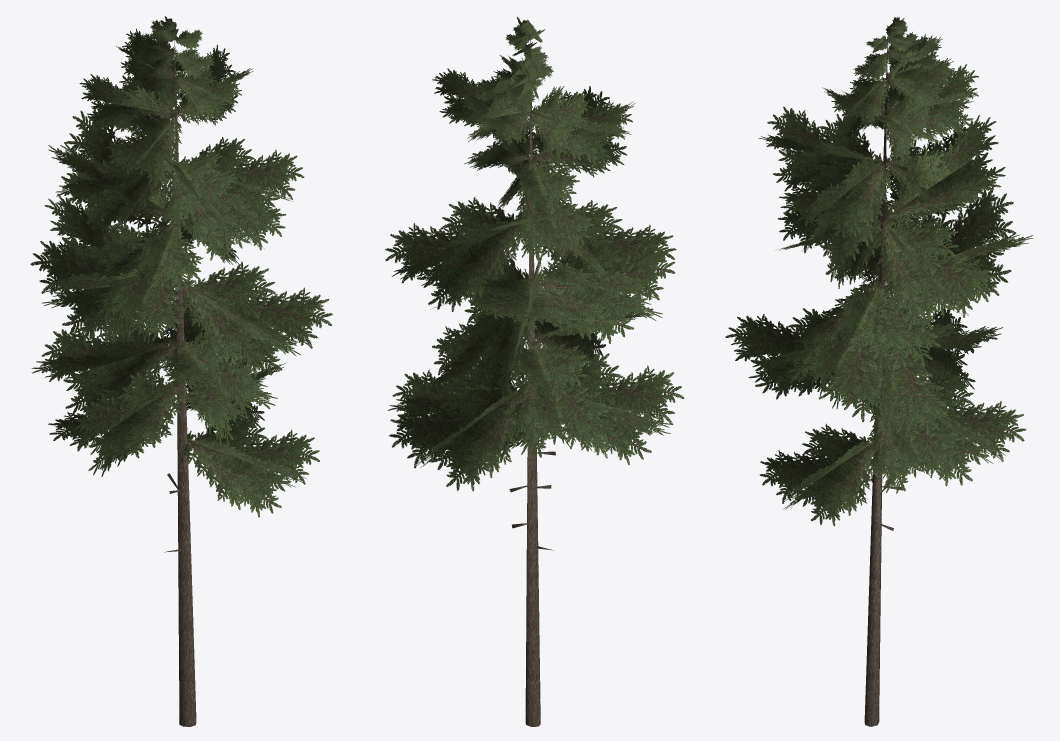
The model's file is pineTree.dae.
The picture shows the model from 3 angles, left to right: view 1: azimuth 30°, elevation 25°; view 2: azimuth 150°, elevation 25°; view 3: azimuth 270°, elevation 25°; orthographic projection. The views are drawn at different scales.
Parts seen in each view (by area): view 1: PineMesh; view 2: PineMesh; view 3: PineMesh.
Part boxes in pixels (x1,y1,x2,y2): PineMesh: (30, 16, 332, 726); PineMesh: (385, 17, 684, 726); PineMesh: (725, 16, 1033, 726).
Bounding box in the file's own units: 1.07 × 2.64 × 1.11.
Materials: 1 (1 with a texture image).
